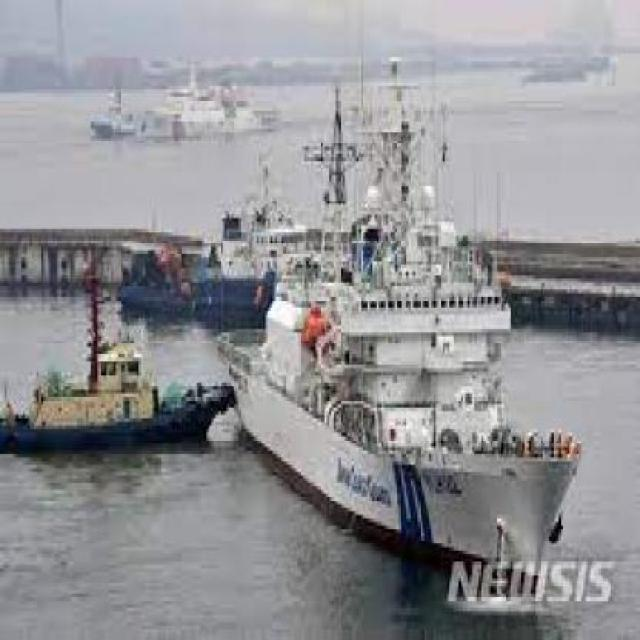fish-b: (232, 40, 593, 602), (4, 258, 244, 473)
